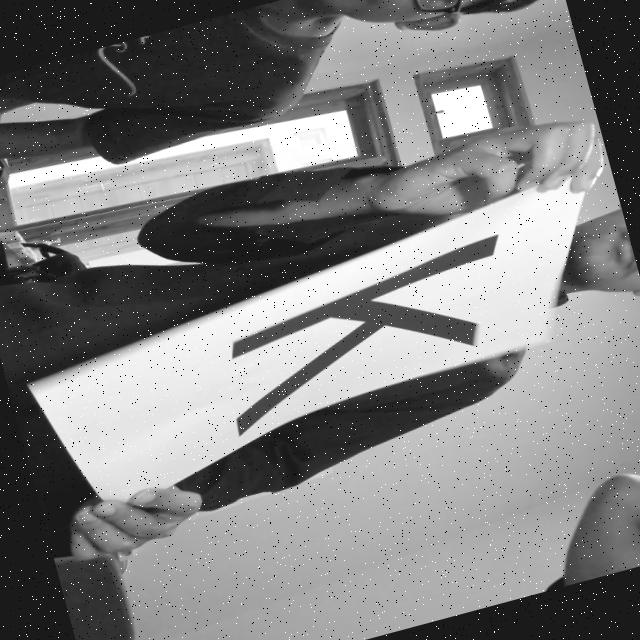k: (192, 219, 541, 456)
